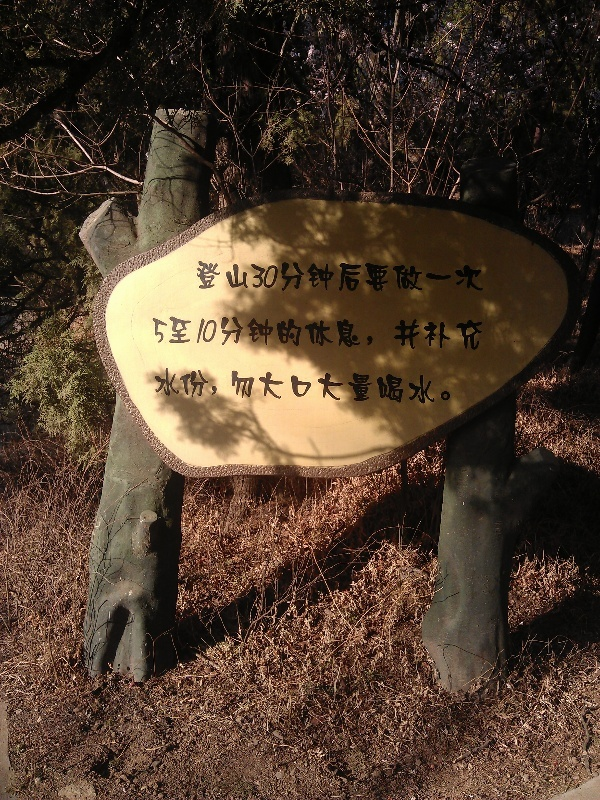text: (161, 365, 176, 407), (177, 365, 192, 407), (193, 365, 208, 407), (209, 365, 224, 407), (225, 365, 240, 407), (241, 365, 256, 407), (257, 365, 272, 407), (273, 365, 288, 407), (289, 365, 304, 407), (305, 365, 320, 407), (321, 365, 336, 407), (337, 365, 352, 407), (353, 365, 368, 407), (369, 365, 384, 407), (385, 365, 400, 407), (401, 365, 416, 407), (417, 365, 432, 407), (433, 365, 448, 407), (193, 257, 208, 295), (209, 257, 224, 295), (225, 257, 240, 295), (241, 257, 256, 295), (257, 257, 272, 295), (273, 257, 288, 295), (289, 257, 304, 295), (305, 257, 320, 295), (321, 257, 336, 295), (337, 257, 352, 295), (353, 257, 368, 295), (369, 257, 384, 295), (385, 257, 400, 295), (401, 257, 416, 295), (417, 257, 432, 295), (433, 257, 448, 295), (449, 257, 464, 295), (465, 257, 480, 295), (161, 314, 176, 350), (177, 314, 192, 350), (193, 314, 208, 350), (209, 314, 224, 350), (225, 314, 240, 350), (241, 314, 256, 350), (257, 314, 272, 350), (273, 314, 288, 350), (289, 314, 304, 350), (305, 314, 320, 350), (321, 314, 336, 350), (337, 314, 352, 350), (353, 314, 368, 350), (369, 314, 384, 350), (385, 314, 400, 350), (401, 314, 416, 350), (417, 314, 432, 350), (433, 314, 448, 350), (449, 314, 464, 350), (465, 314, 480, 350), (151, 314, 160, 350), (154, 365, 160, 407), (481, 314, 486, 350), (481, 257, 485, 295), (449, 365, 450, 407)
